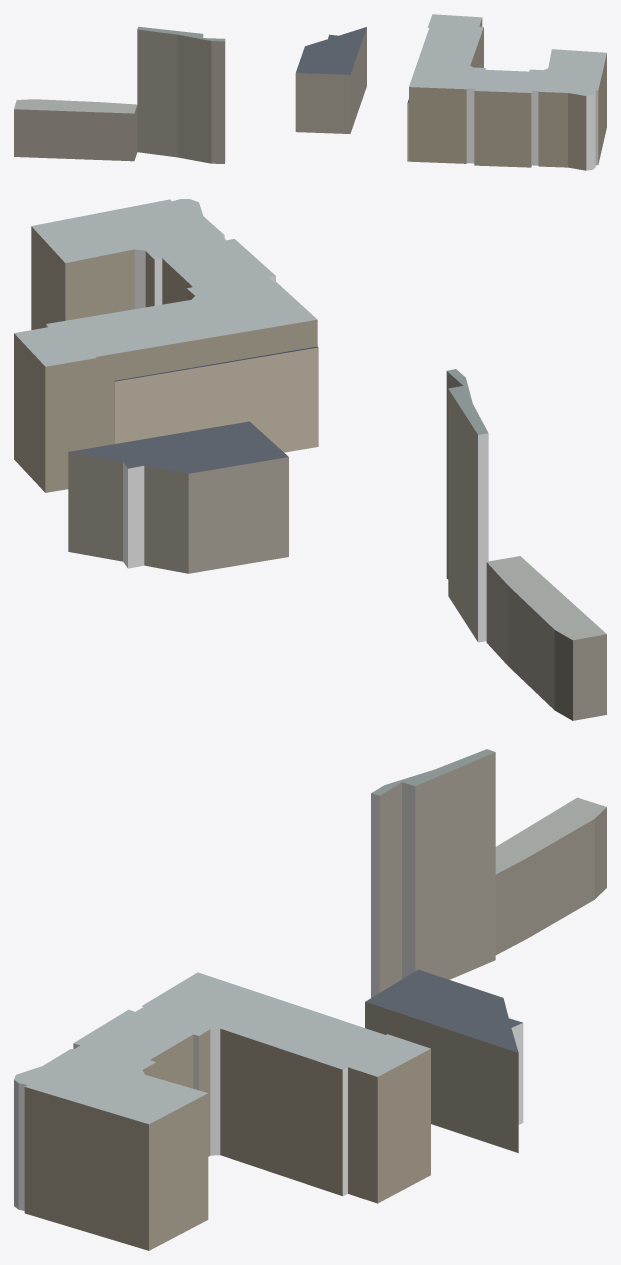
The picture shows the model from 3 angles, top to bottom: view 1: azimuth 30°, elevation 25°; view 2: azimuth 150°, elevation 25°; view 3: azimuth 270°, elevation 25°; orthographic projection. The views are drawn at different scales.
Visible parts, largest first — view 1: tuile; view 2: tuile; view 3: tuile.
Boxes of the visible parts, x1,y1,x2,y2 form: tuile: (14,14,606,170); tuile: (14,199,606,720); tuile: (14,749,606,1250).
Size of the model in its own units: 139 by 35.05 by 90.
